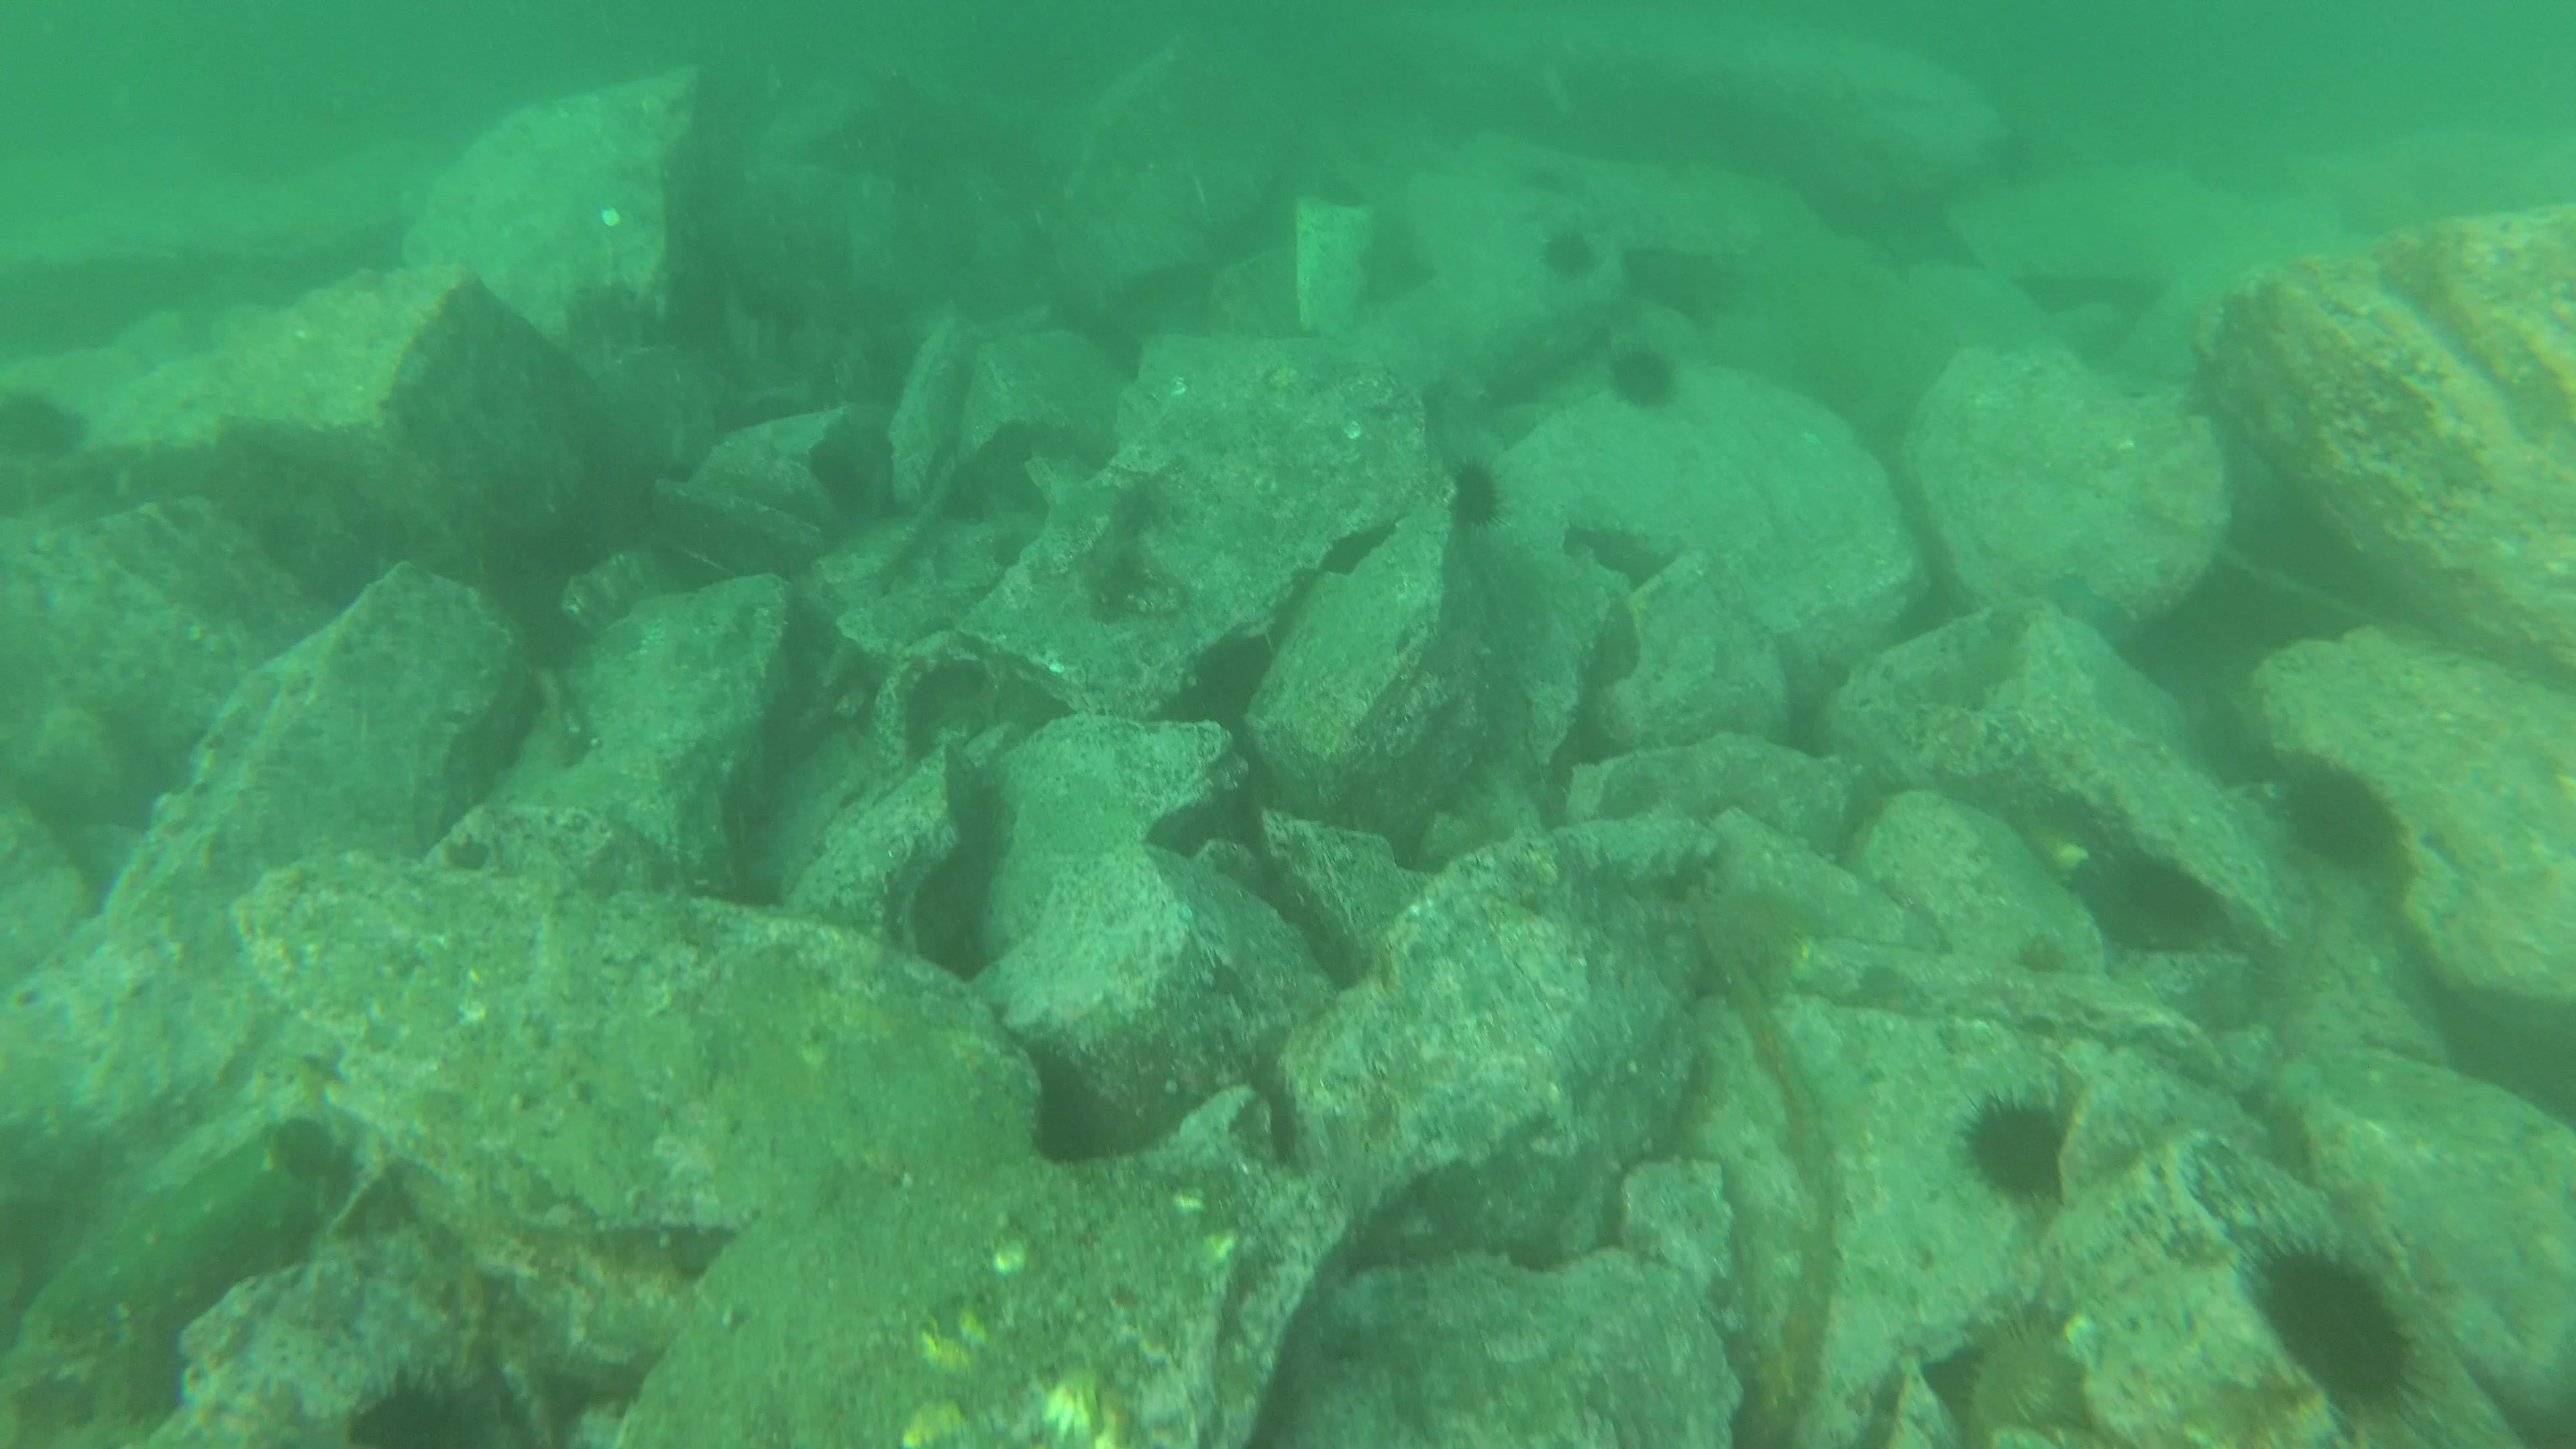echinus: (2263, 1244, 2415, 1385), (2281, 752, 2411, 878), (1962, 1092, 2074, 1205), (1438, 453, 1507, 524), (1612, 349, 1679, 407)
